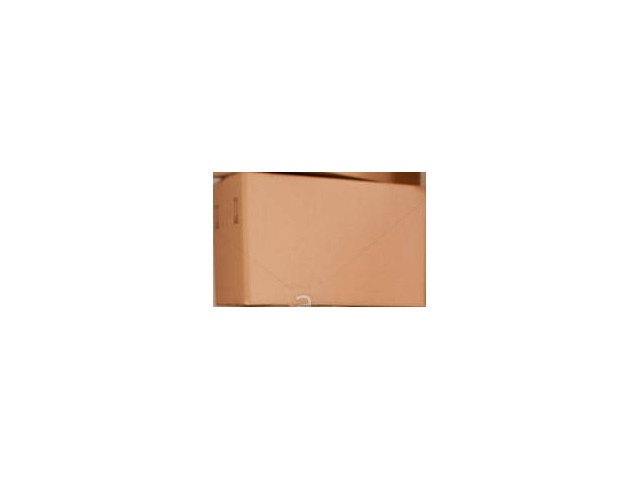cardboard: (212, 173, 424, 303)
